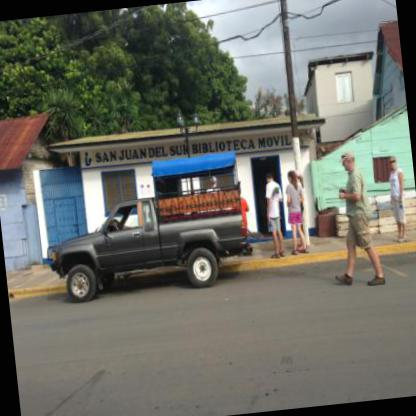truck: (45, 170, 267, 305)
